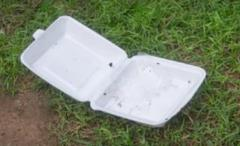general: (19, 15, 206, 128)
